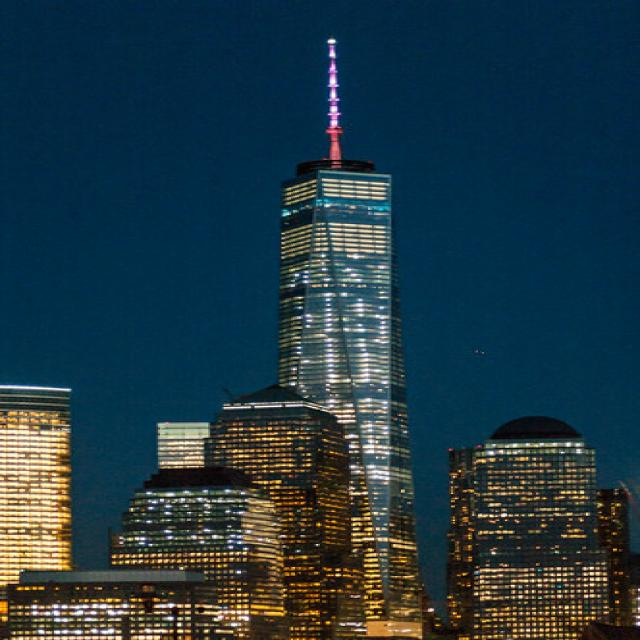Normal_building: (278, 157, 429, 634), (452, 414, 621, 640)
